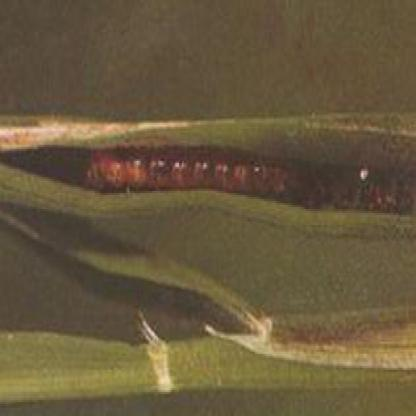leaf-folder: (83, 113, 334, 241)
